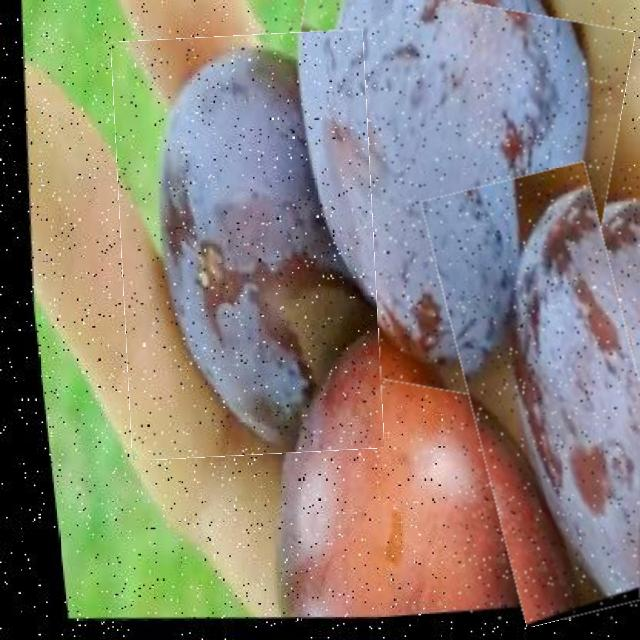plum: (259, 0, 620, 397), (117, 32, 379, 457), (446, 168, 640, 620)
